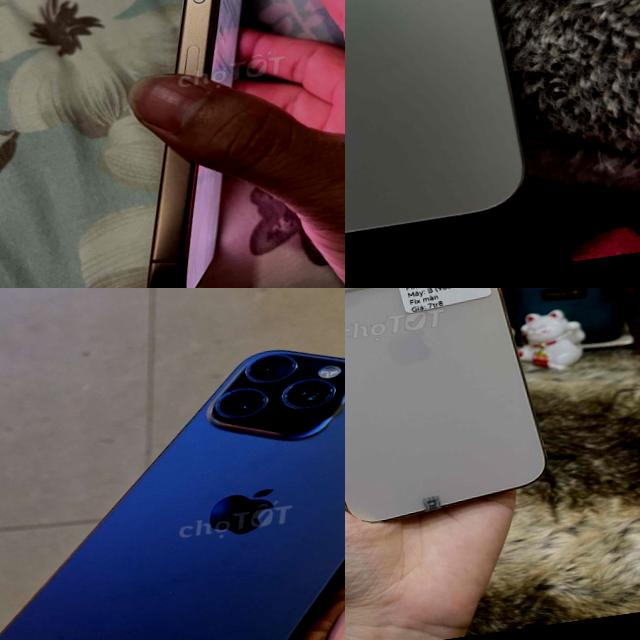gen_12_13: (345, 288, 564, 538)
gen_15: (0, 313, 345, 640), (345, 0, 543, 288)
gen_16: (75, 0, 324, 288)
